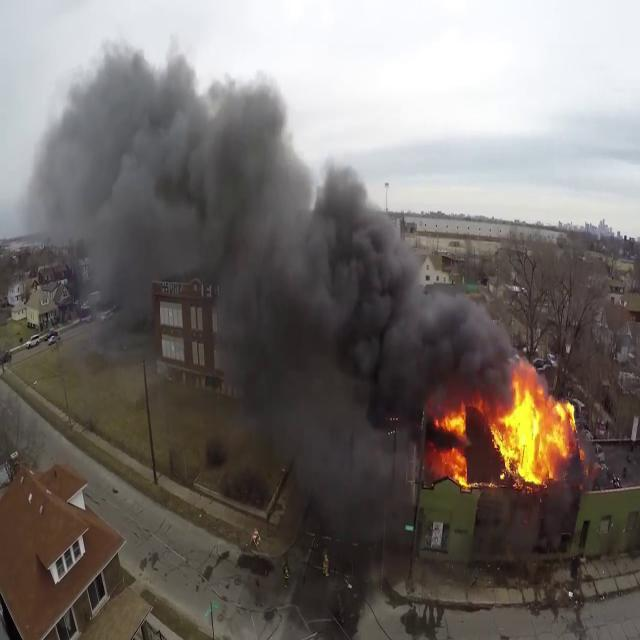Fire: (432, 358, 580, 500)
Smoke: (228, 90, 502, 424), (48, 49, 290, 354)
